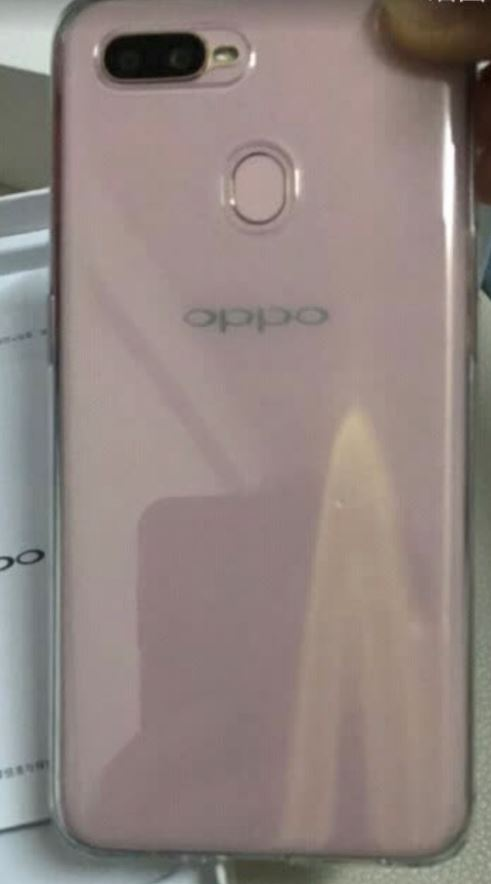mobil: (48, 0, 476, 868)
